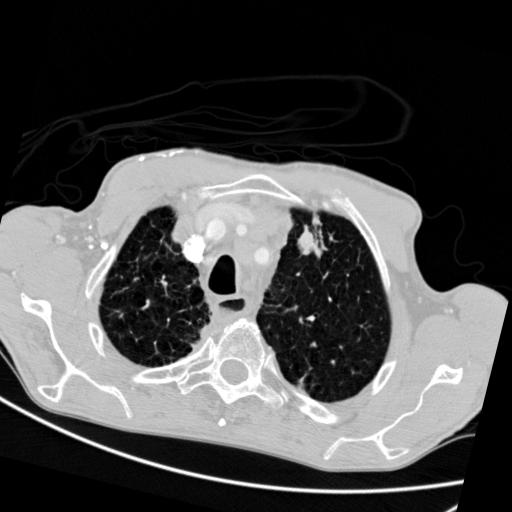nodule: (294, 218, 335, 259)
